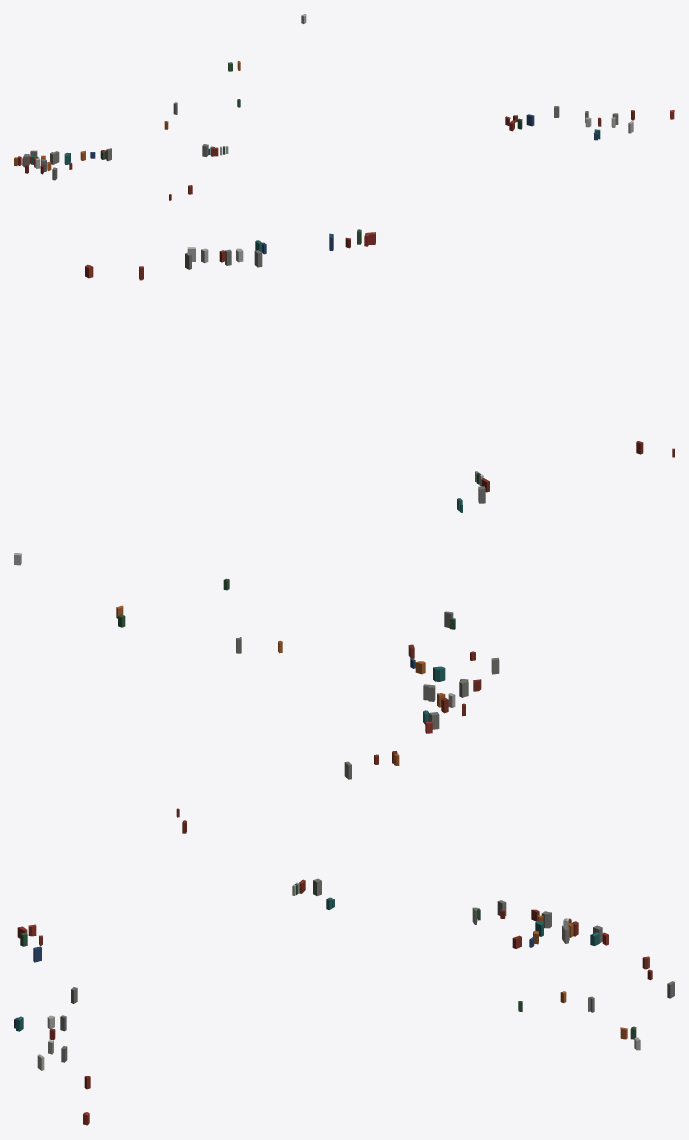
Rendered from near-15-27360-14861.81c21adb.glb.
The picture shows the model from 3 angles, top to bottom: view 1: azimuth 30°, elevation 25°; view 2: azimuth 150°, elevation 25°; view 3: azimuth 270°, elevation 25°; orthographic projection. The views are drawn at different scales.
Size of the model in its own units: 1114 by 378 by 1035.
